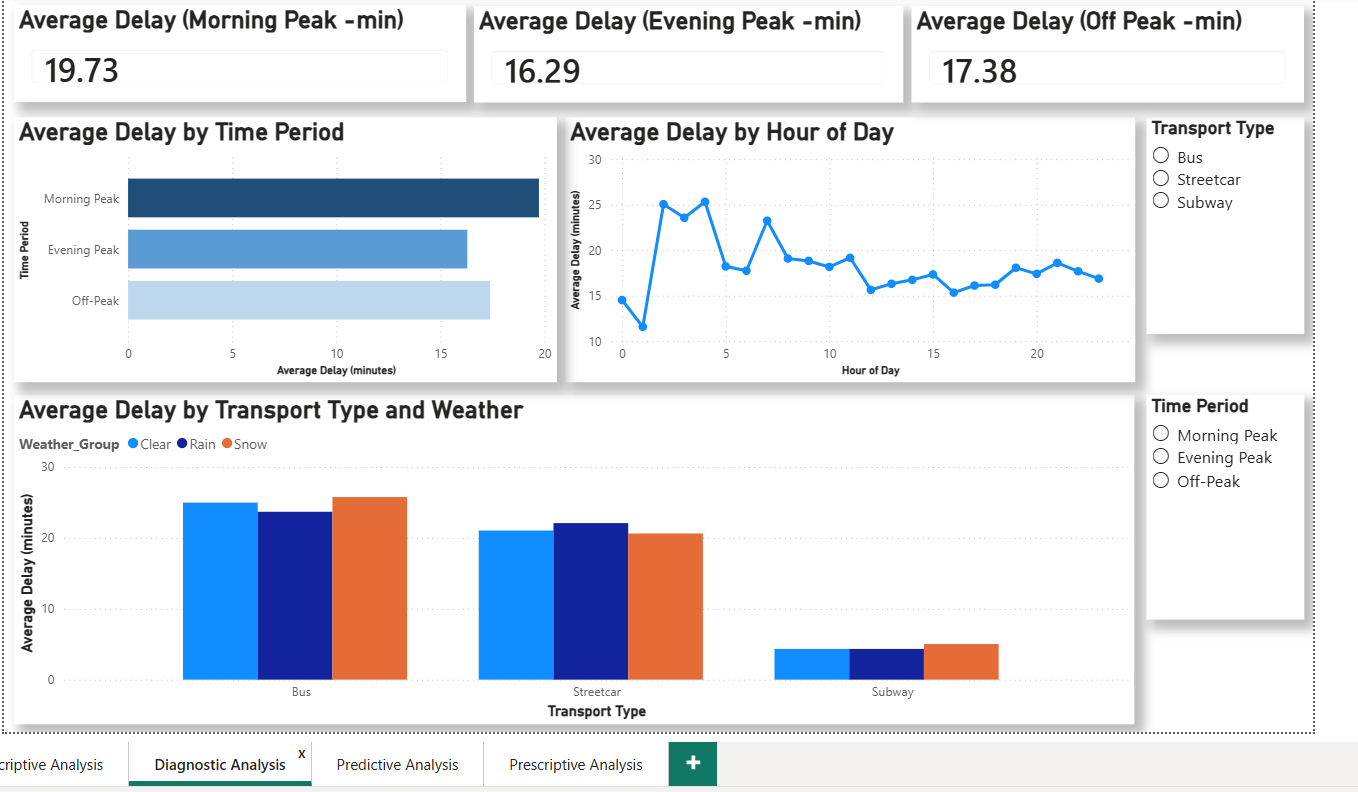

The dashboard page shown, as its layout file describes it:
{"tool":"powerbi","page":{"name":"Diagnostic Analysis","canvas":[1280,720],"ordinal":1},"visuals":[{"type":"clusteredColumnChart","title":"Average Delay by Transport Type and Weather","fields":{"Y":["TTC_Weather.Avg_Delay"],"Series":["TTC_Weather.Weather_Group"],"Category":["TTC_Weather.Transport_Type"]},"box":[9.8,390.2,1096.4,322.5],"z":0},{"type":"cardVisual","title":"Average Delay (Morning Peak -min)","fields":{"Data":["TTC_Weather.Avg_Delay_Peak"]},"box":[9.8,8.7,442.7,95.1],"z":1000},{"type":"cardVisual","title":"Average Delay (Evening Peak -min)","fields":{"Data":["TTC_Weather.Avg_Delay_Off_Peak"]},"box":[460.2,9.8,419.7,94],"z":2000},{"type":"lineChart","title":"Average Delay by Hour of Day","fields":{"Y":["TTC_Weather.Avg_Delay"],"Category":["TTC_Weather.hour_of_day"]},"box":[548.7,118.1,557.5,259.1],"z":3000},{"type":"listSlicer","title":"Transport Type","fields":{"Values":["TTC_Weather.Transport_Type"]},"box":[1117.1,118.1,154.1,212.1],"z":4000},{"type":"listSlicer","title":"Time Period","fields":{"Values":["TTC_Weather.Time_Period"]},"box":[1117.1,390.2,154.1,219.7],"z":5000},{"type":"barChart","title":"Average Delay by Time Period","fields":{"Y":["TTC_Weather.Avg_Delay"],"Category":["TTC_Weather.Time_Period"]},"box":[9.8,118.1,531.2,259.1],"z":6000},{"type":"cardVisual","title":"Average Delay (Off Peak -min)","fields":{"Data":["TTC_Weather.Avg_Delay_Off_Peak1"]},"box":[887.6,9.8,383.7,94],"z":7000}]}

Visuals, with their boxes on the page's 1280x720 design canvas (x1, y1, x2, y2). These are canvas units, not pixel positions in the 1358x792 screenshot, which may show the page scaled, cropped or inside an application window:
"Average Delay by Transport Type and Weather" clusteredColumnChart: (10,390,1106,713)
"Average Delay (Morning Peak -min)" cardVisual: (10,9,452,104)
"Average Delay (Evening Peak -min)" cardVisual: (460,10,880,104)
"Average Delay by Hour of Day" lineChart: (549,118,1106,377)
"Transport Type" listSlicer: (1117,118,1271,330)
"Time Period" listSlicer: (1117,390,1271,610)
"Average Delay by Time Period" barChart: (10,118,541,377)
"Average Delay (Off Peak -min)" cardVisual: (888,10,1271,104)
